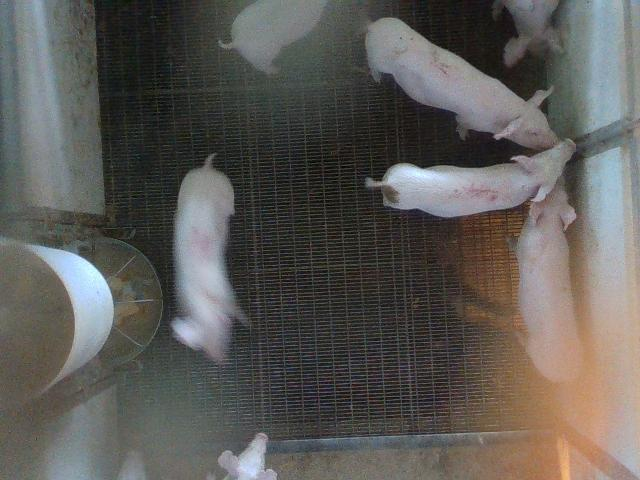pig-4: (171, 154, 246, 361)
pig-5: (365, 140, 575, 218)
